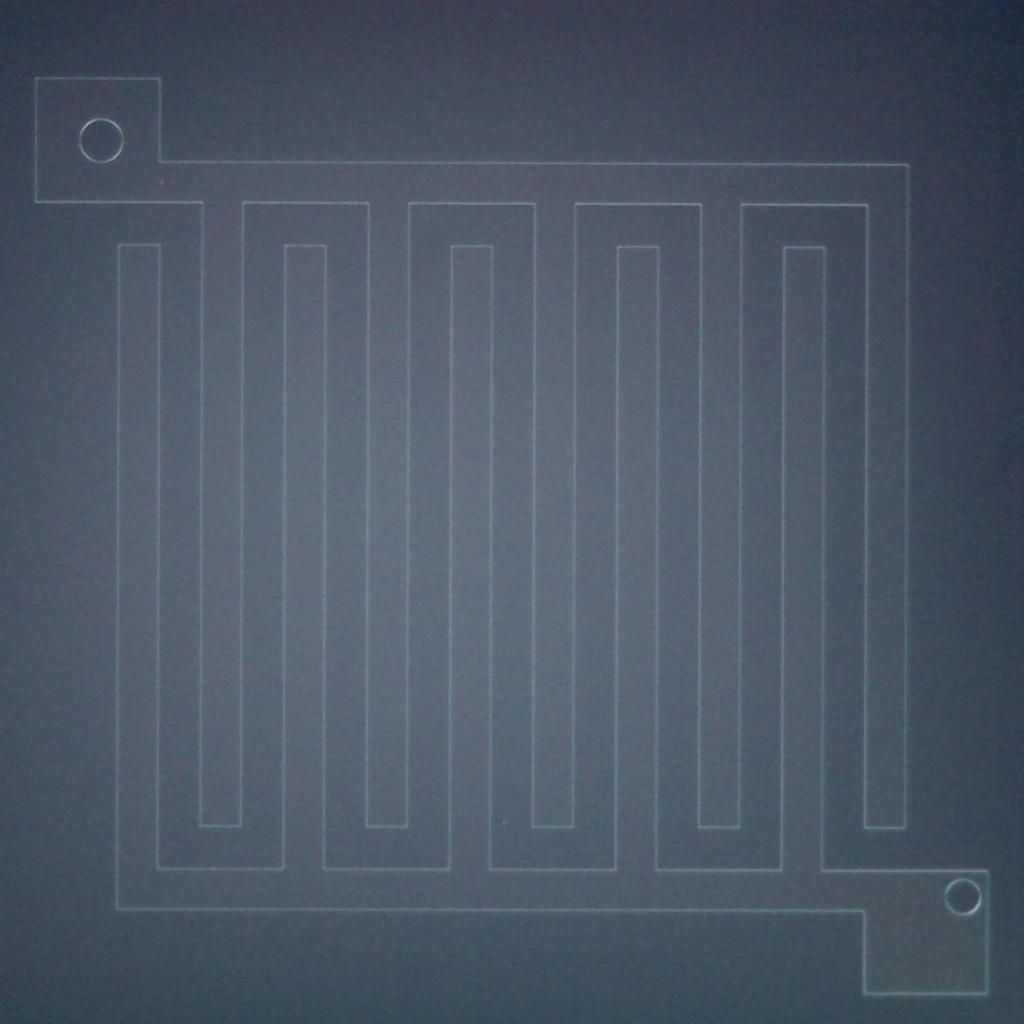dot: (161, 180, 165, 184), (503, 822, 505, 824)
